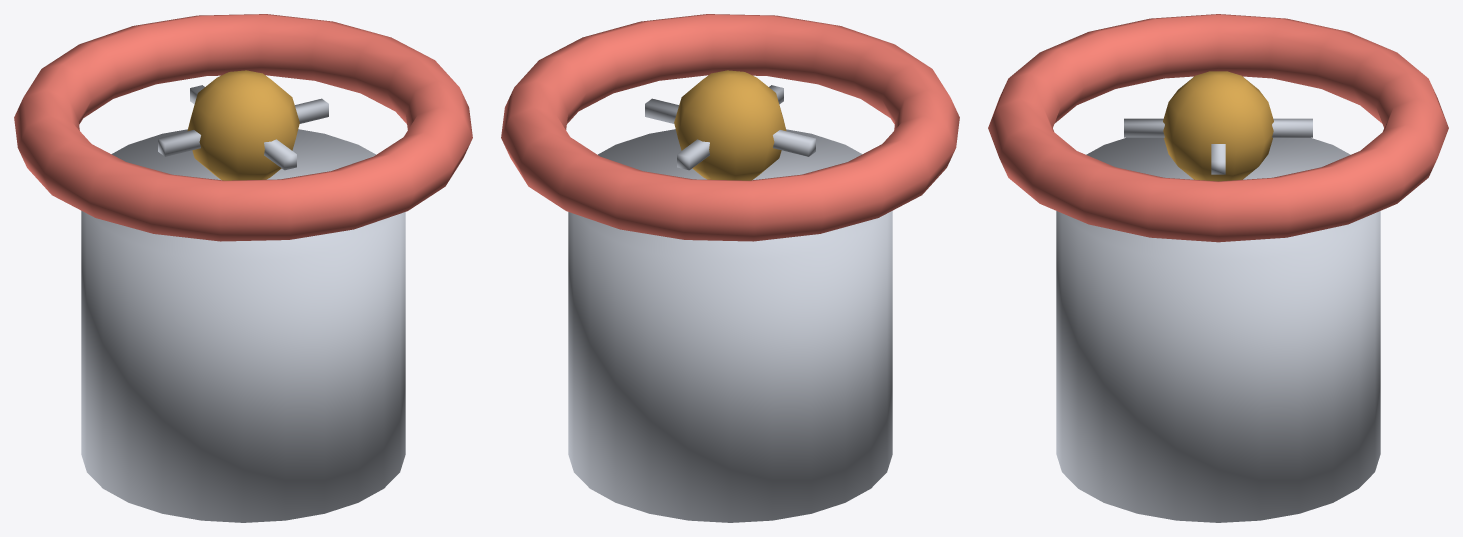
File: opera_astronaut_valve.glb
The picture shows the model from 3 angles, left to right: view 1: azimuth 30°, elevation 25°; view 2: azimuth 150°, elevation 25°; view 3: azimuth 270°, elevation 25°; orthographic projection.
Parts seen in each view (by area): view 1: VisualMesh.006; view 2: VisualMesh.006; view 3: VisualMesh.006.
Boxes of the visible parts, bbox=[...] form: VisualMesh.006: bbox=[14, 14, 472, 522]; VisualMesh.006: bbox=[501, 14, 959, 522]; VisualMesh.006: bbox=[988, 14, 1448, 522].
Size of the model in its own units: 2.56 by 2.32 by 2.56.
